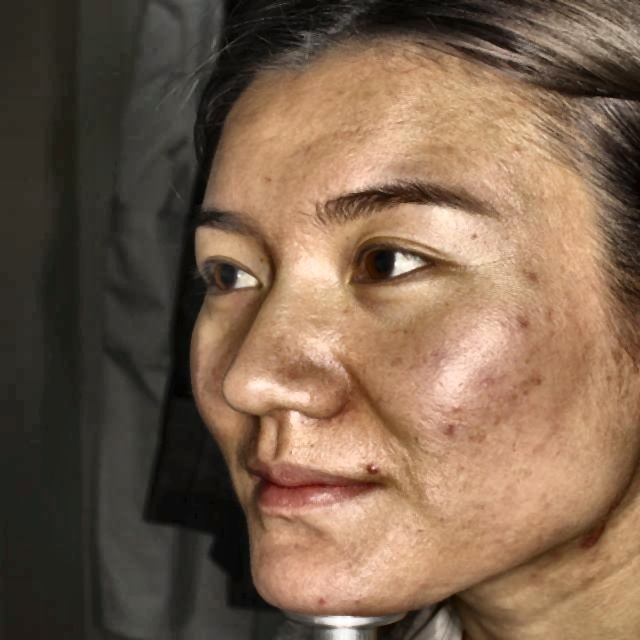comedone: (436, 414, 468, 446), (362, 455, 382, 476)
